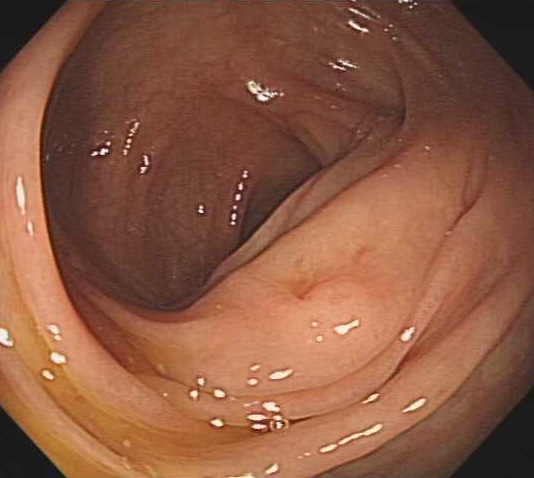others: (255, 278, 384, 362)
